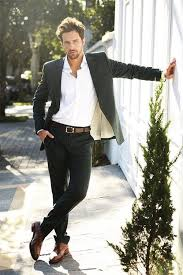F_M_suit jacket: (21, 51, 167, 147)
F_belt: (46, 117, 99, 139)
F_dress pants: (30, 140, 94, 247)
